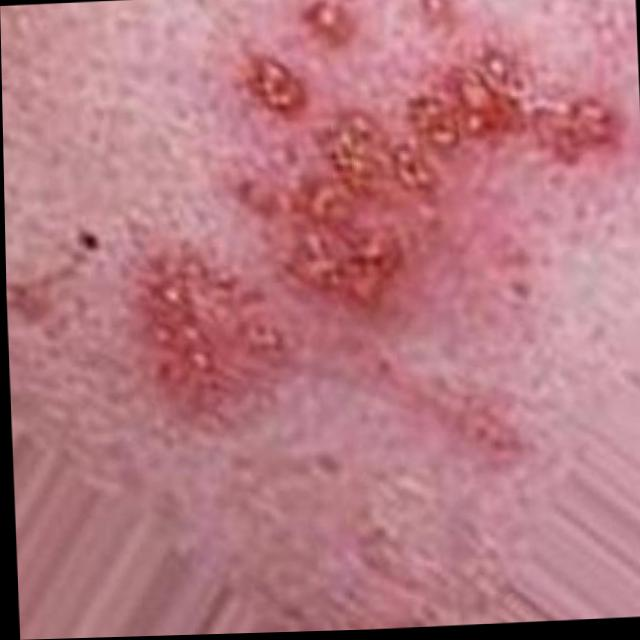Shingles: (254, 0, 619, 276), (143, 262, 259, 377)
